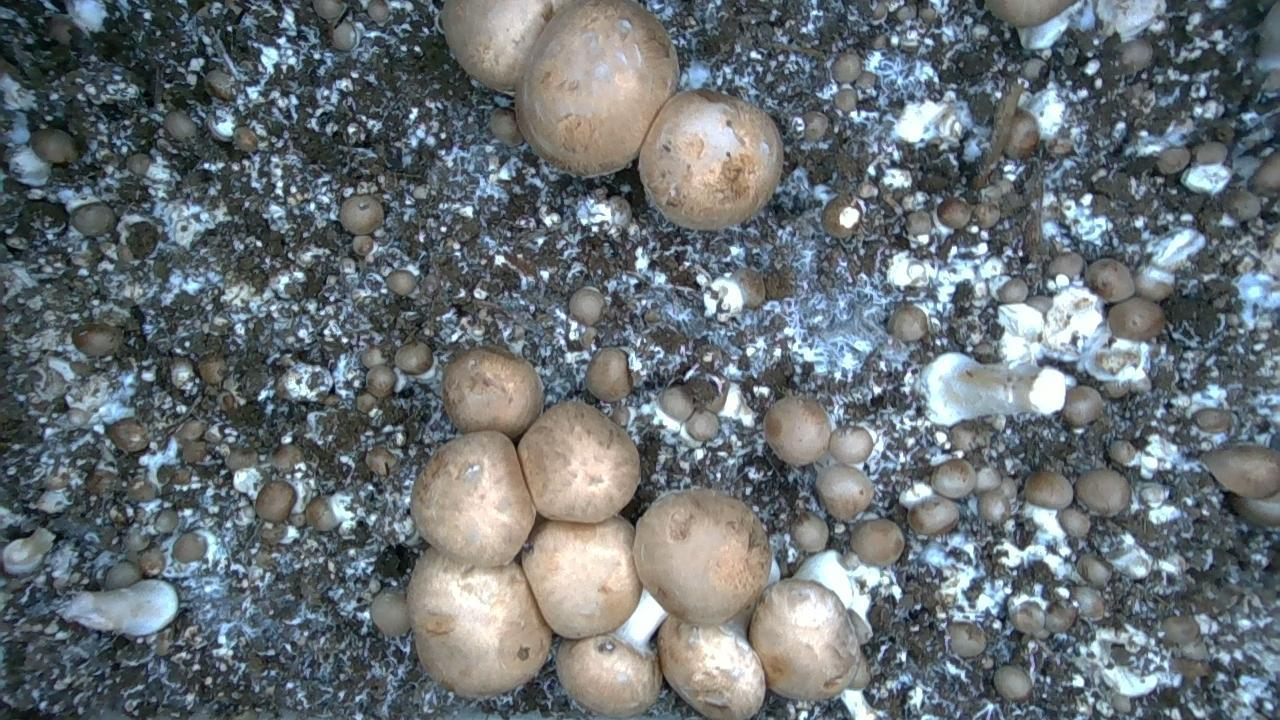BB: (516, 0, 678, 176), (407, 548, 552, 697), (639, 89, 783, 229), (633, 489, 771, 624), (411, 431, 535, 566), (521, 516, 641, 638), (518, 402, 639, 522), (749, 578, 858, 700), (441, 0, 569, 92), (658, 611, 765, 719), (442, 346, 543, 438), (556, 634, 661, 717), (764, 396, 830, 465), (1201, 445, 1279, 498), (816, 464, 873, 520), (1075, 469, 1130, 516), (851, 519, 904, 566), (1107, 297, 1164, 340), (586, 347, 631, 401), (985, 0, 1075, 27), (1086, 258, 1134, 302), (907, 495, 958, 535), (370, 589, 410, 636), (1024, 471, 1073, 509), (1003, 109, 1039, 158), (931, 459, 976, 498), (340, 195, 384, 234), (72, 323, 123, 356), (255, 480, 295, 522), (1230, 492, 1279, 526), (30, 128, 77, 163), (1062, 386, 1102, 427), (822, 197, 862, 238), (829, 426, 873, 463), (70, 202, 115, 236), (888, 304, 927, 342), (791, 512, 828, 552), (1258, 0, 1279, 70), (946, 622, 986, 657), (107, 418, 148, 452), (993, 665, 1032, 700), (569, 287, 604, 325), (1249, 152, 1279, 196), (732, 268, 765, 308), (395, 340, 433, 374), (489, 108, 523, 146), (658, 386, 693, 421), (1076, 554, 1111, 588), (1044, 601, 1077, 633), (1072, 587, 1104, 619), (937, 197, 970, 228), (831, 51, 862, 84), (686, 410, 718, 441), (204, 69, 236, 100), (366, 365, 396, 398), (172, 533, 206, 562), (164, 110, 196, 140), (1156, 147, 1190, 175), (1193, 408, 1231, 432), (197, 354, 226, 385), (1048, 252, 1084, 276), (848, 609, 872, 644), (386, 269, 416, 296), (1193, 141, 1227, 164), (997, 278, 1028, 303), (312, 0, 346, 21), (804, 111, 828, 140), (233, 126, 258, 152), (367, 0, 389, 23)
